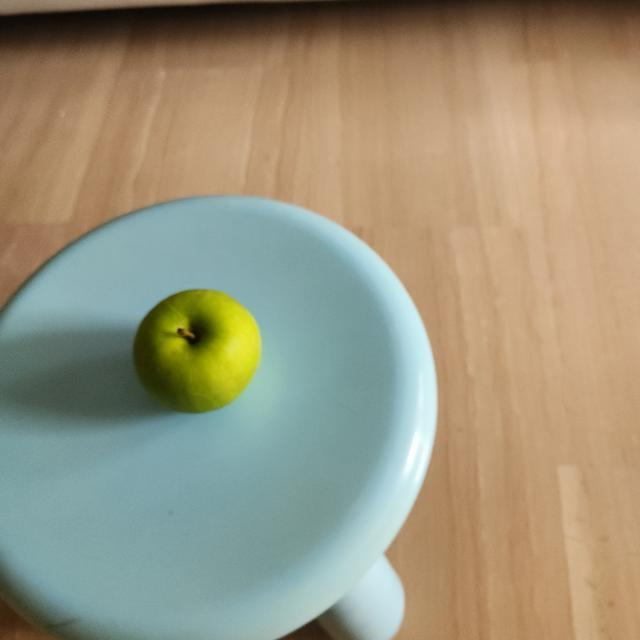apple: (132, 284, 264, 418)
